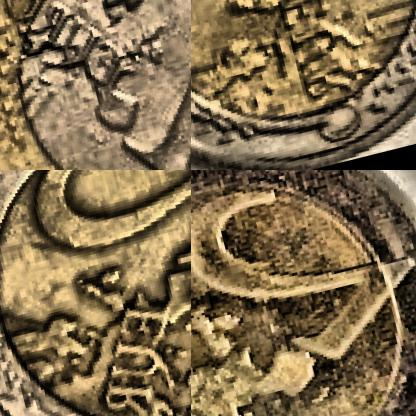coin: (191, 170, 415, 415), (0, 170, 190, 415), (191, 0, 415, 169), (0, 0, 190, 169)
